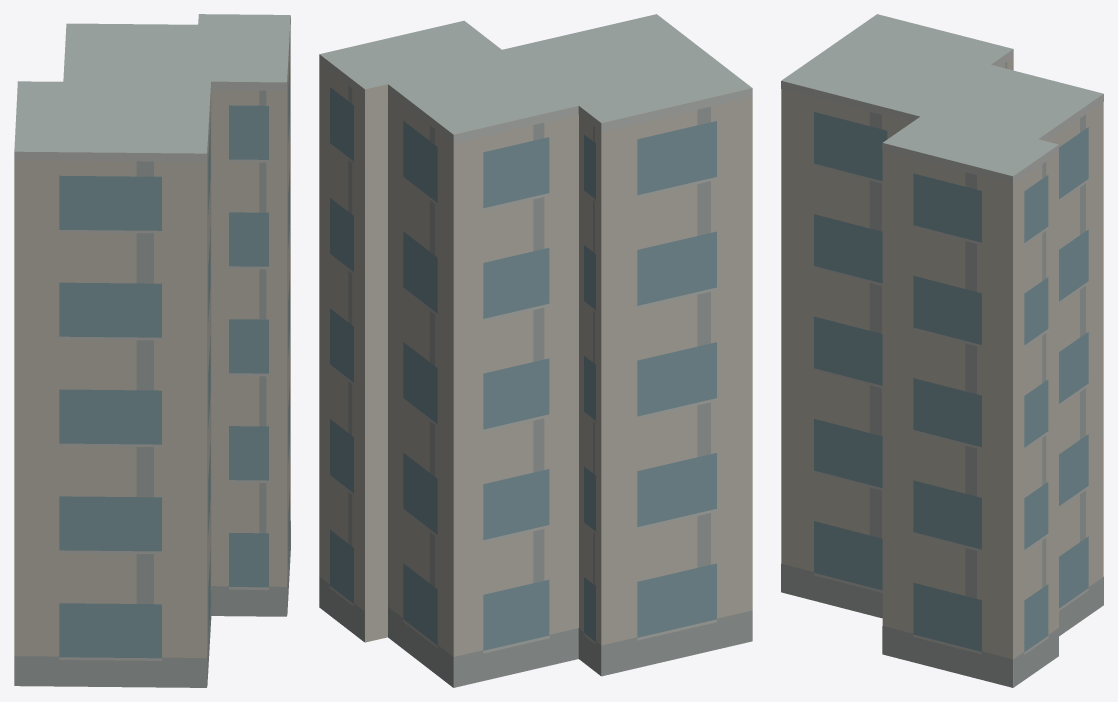
File: residential-76703e81-5d09-40e2-acf8-8ead5076e669.glb
3 renders of one model, left to right at view 1: azimuth 30°, elevation 25°; view 2: azimuth 150°, elevation 25°; view 3: azimuth 270°, elevation 25°, orthographic. The views are drawn at different scales.
Visible parts, largest first — view 1: residential-76703e81-5d09-40e2-acf8-8ead5076e669.tmp; view 2: residential-76703e81-5d09-40e2-acf8-8ead5076e669.tmp; view 3: residential-76703e81-5d09-40e2-acf8-8ead5076e669.tmp.
Boxes of the visible parts, bbox=[...] form: residential-76703e81-5d09-40e2-acf8-8ead5076e669.tmp: bbox=[14, 14, 290, 687]; residential-76703e81-5d09-40e2-acf8-8ead5076e669.tmp: bbox=[319, 14, 752, 687]; residential-76703e81-5d09-40e2-acf8-8ead5076e669.tmp: bbox=[781, 14, 1103, 687].
Size of the model in its own units: 10.39 by 15.25 by 8.73.
